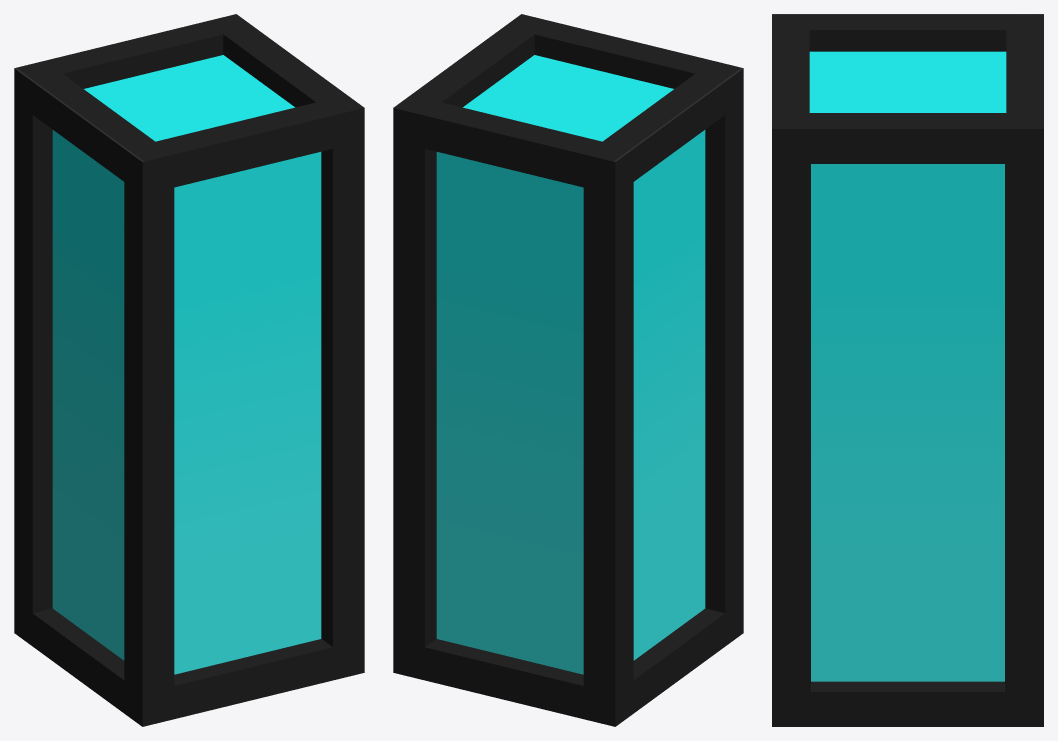
Rendered from Goal_Main.fbx.
The picture shows the model from 3 angles, left to right: view 1: azimuth 30°, elevation 25°; view 2: azimuth 150°, elevation 25°; view 3: azimuth 270°, elevation 25°; orthographic projection. The views are drawn at different scales.
Visible parts, largest first — view 1: Main; view 2: Main; view 3: Main.
Boxes of the visible parts, x1=… form: Main: x1=14, y1=14, x2=364, y2=726; Main: x1=393, y1=14, x2=743, y2=726; Main: x1=772, y1=14, x2=1043, y2=726.
Bounding box in the file's own units: 0.4291 × 1.04 × 0.4291.
